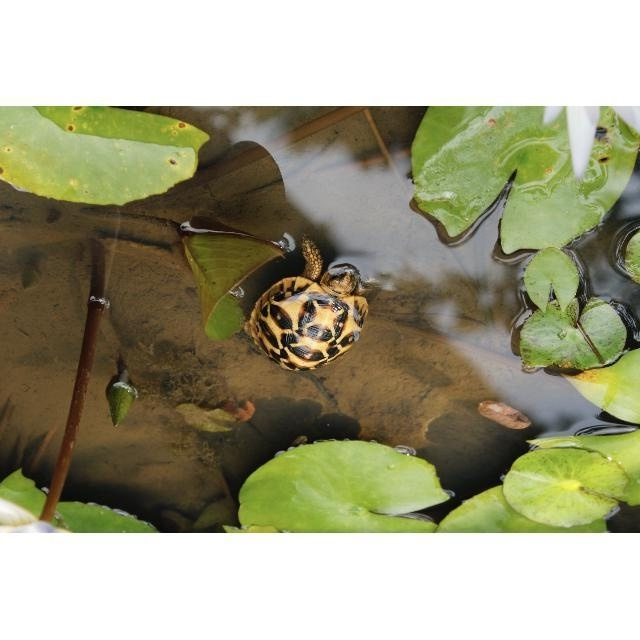turtle: (243, 235, 388, 373)
